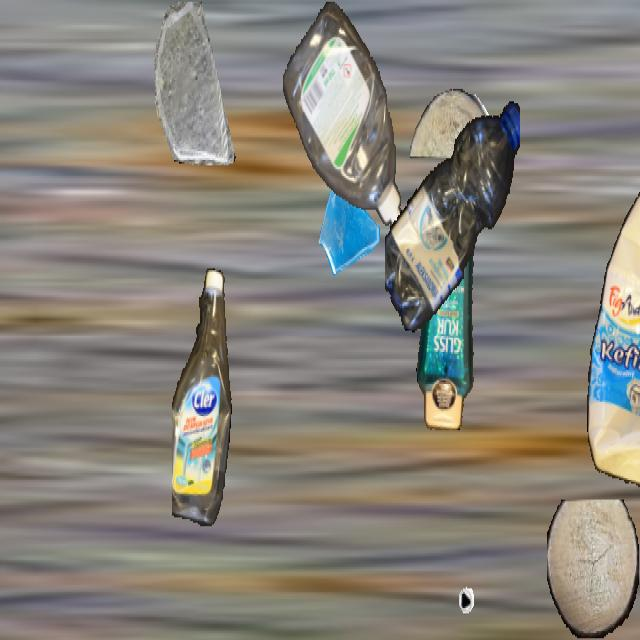glass: (149, 2, 241, 165), (317, 167, 383, 285)
metal: (421, 516, 481, 622)
plastic: (385, 89, 519, 338), (283, 2, 403, 233), (583, 112, 640, 489), (412, 176, 484, 428), (172, 268, 232, 524)
wood: (547, 500, 639, 638), (410, 89, 494, 156)
